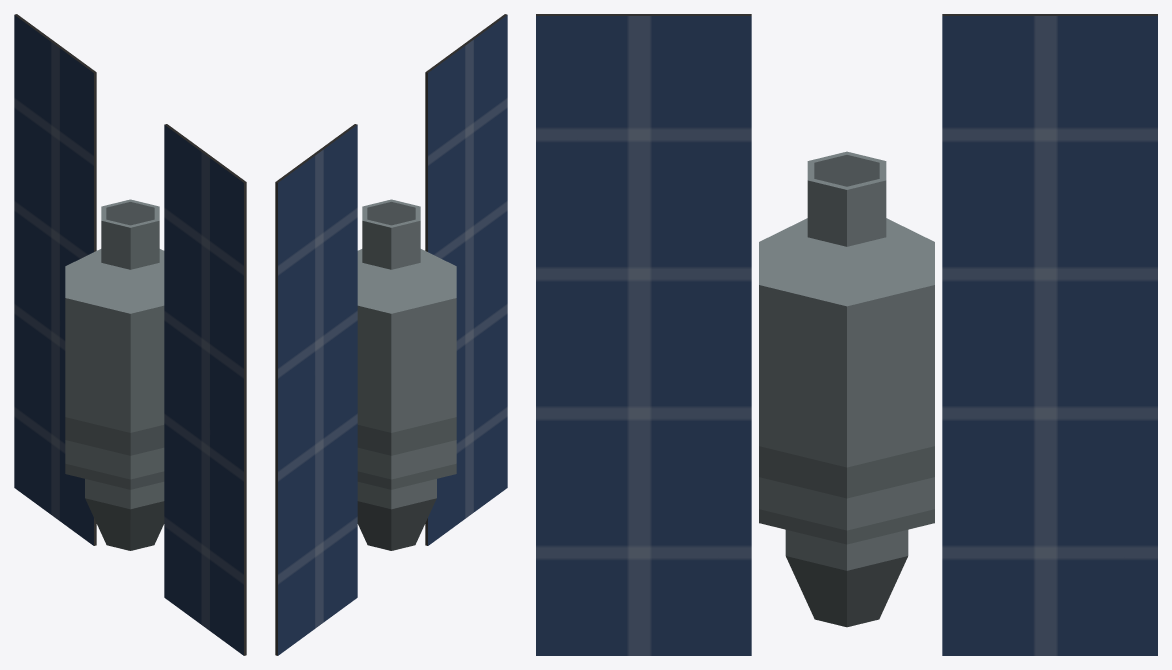
Rendered from SM_Veh_Satellite_02.fbx.
3 renders of one model, left to right at view 1: azimuth 30°, elevation 25°; view 2: azimuth 150°, elevation 25°; view 3: azimuth 270°, elevation 25°, orthographic. The views are drawn at different scales.
Visible parts, largest first — view 1: SM_Veh_Satellite_02; view 2: SM_Veh_Satellite_02; view 3: SM_Veh_Satellite_02.
Boxes of the visible parts, x1,y1,x2,y2 form: SM_Veh_Satellite_02: [14, 14, 246, 655]; SM_Veh_Satellite_02: [275, 14, 507, 655]; SM_Veh_Satellite_02: [536, 14, 1157, 655].
Size of the model in its own units: 1.03 by 3.57 by 3.14.
